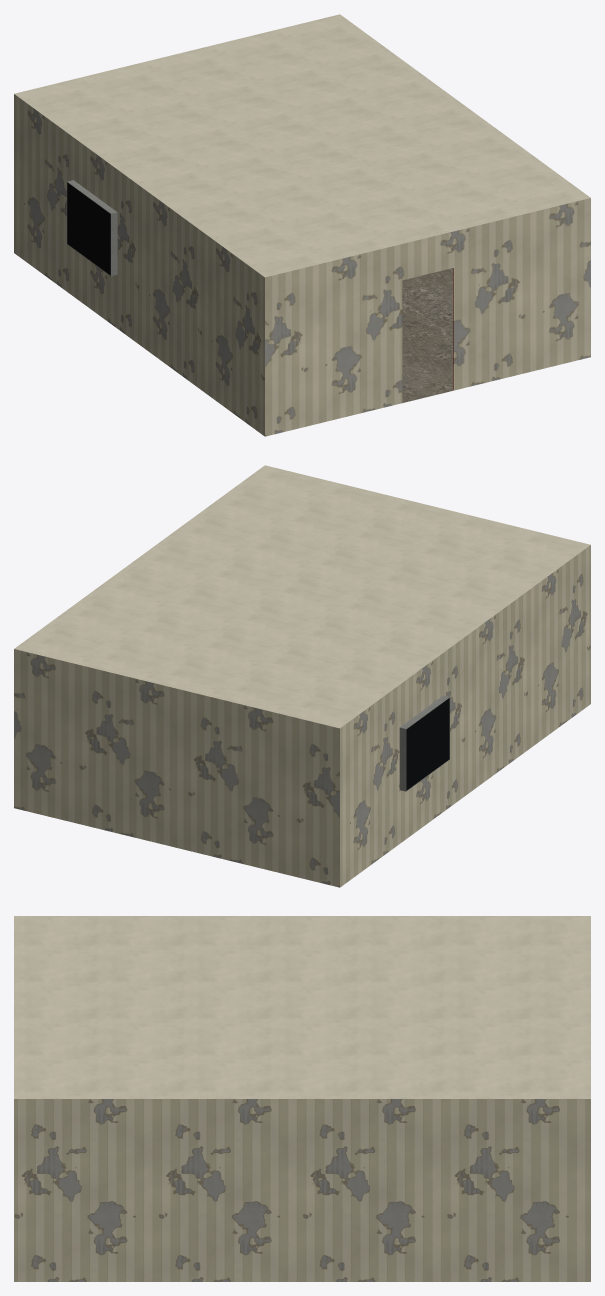
File: empty_room.glb
The picture shows the model from 3 angles, top to bottom: view 1: azimuth 30°, elevation 25°; view 2: azimuth 150°, elevation 25°; view 3: azimuth 270°, elevation 25°; orthographic projection. The views are drawn at different scales.
Parts seen in each view (by area): view 1: Wall_Stripped.001, Ceiling_Room.001, Floor_Bare.001, Window_Void, Window_Frame; view 2: Wall_Stripped.001, Ceiling_Room.001, Window_Void, Window_Frame; view 3: Ceiling_Room.001, Wall_Stripped.001.
Boxes of the visible parts, x1,y1,x2,y2 form: Wall_Stripped.001: (14,94,590,436); Ceiling_Room.001: (14,14,590,277); Floor_Bare.001: (402,268,452,402); Window_Void: (67,182,110,275); Window_Frame: (67,180,117,276); Wall_Stripped.001: (14,545,590,887); Ceiling_Room.001: (14,465,590,728); Window_Void: (406,698,449,790); Window_Frame: (399,695,449,791); Ceiling_Room.001: (14,916,590,1098); Wall_Stripped.001: (14,1099,590,1281).
Size of the model in its own units: 6.12 by 2.8 by 8.
15 materials, 10 textured.
